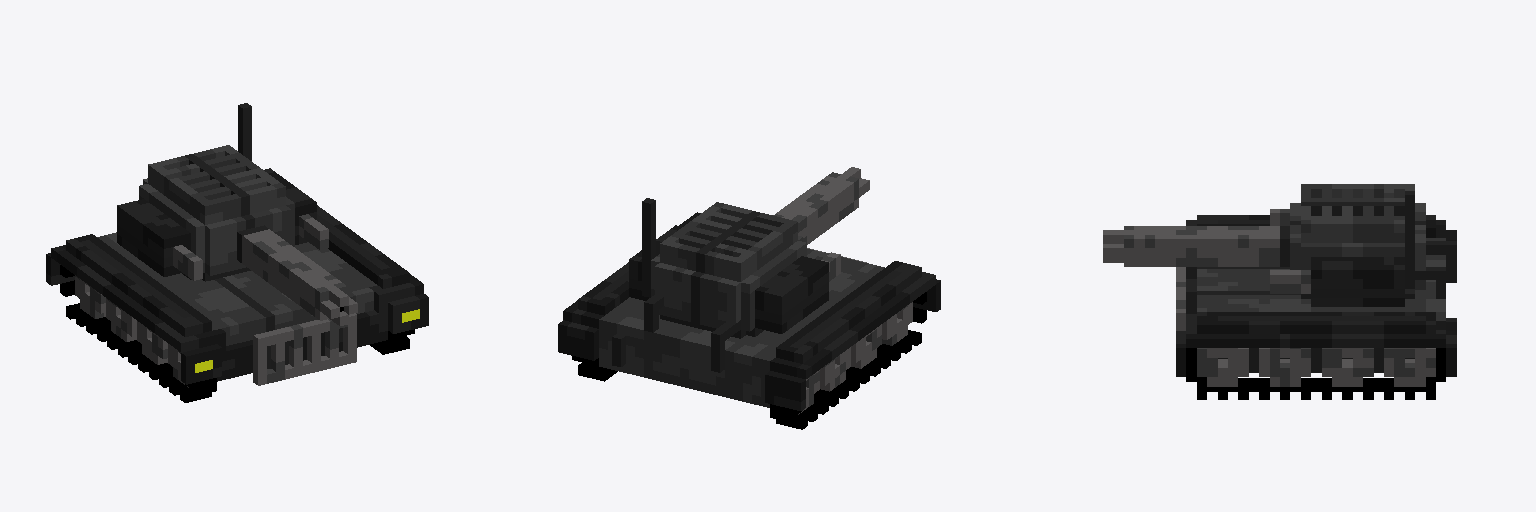
The picture shows the model from 3 angles: view 1: azimuth 30°, elevation 25°; view 2: azimuth 150°, elevation 25°; view 3: azimuth 270°, elevation 25°; orthographic projection.
Visible parts, largest first — view 1: object 1; view 2: object 1; view 3: object 1.
Part boxes in pixels (bbox=[...]): object 1: bbox=[46, 103, 428, 402]; object 1: bbox=[558, 167, 940, 429]; object 1: bbox=[1103, 184, 1456, 399].
Size of the model in its own units: 2.7 by 1.9 by 3.4.
Materials: 1 (1 with a texture image).